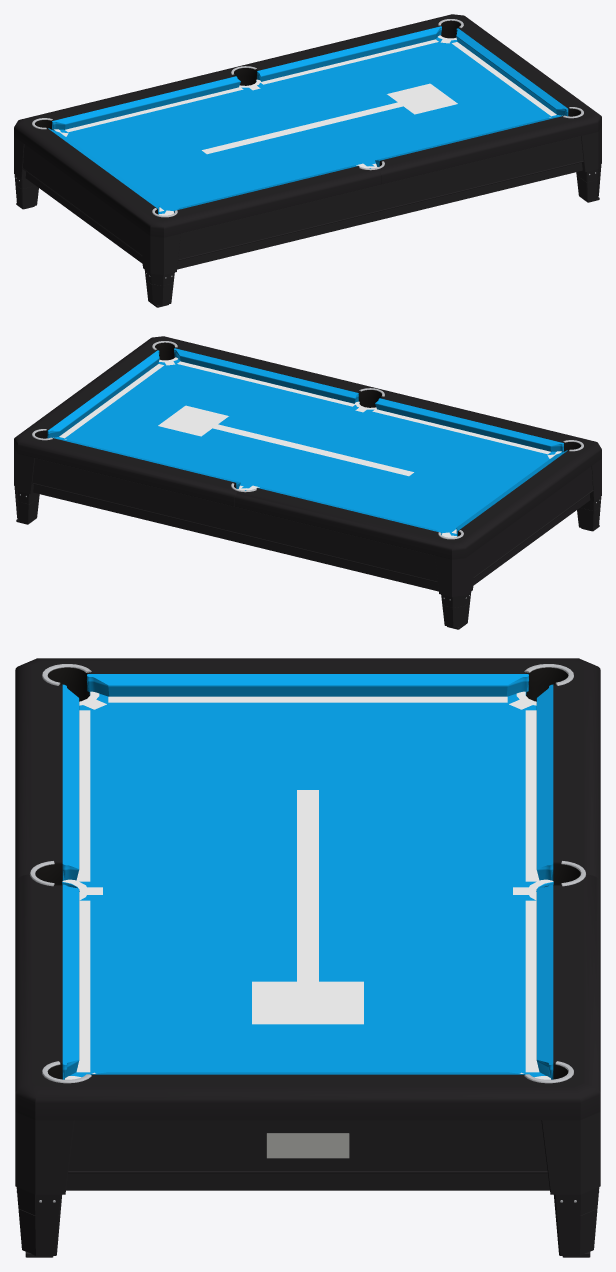
The model's file is PoolTable.fbx.
3 views of the same model, one above another, from view 1: azimuth 30°, elevation 25°; view 2: azimuth 150°, elevation 25°; view 3: azimuth 270°, elevation 25° (orthographic). The views are drawn at different scales.
Parts seen in each view (by area): view 1: Cloth, Body, Rails, Marks, Pockets, Caps; view 2: Cloth, Body, Rails, Marks, Pockets, Caps; view 3: Cloth, Rails, Body, Marks, Pockets, LogoPlate, Caps.
Boxes of the visible parts, x1,y1,x2,y2 form: Cloth: (48,26,568,214); Body: (14,126,601,307); Rails: (14,14,601,237); Marks: (54,35,562,215); Pockets: (35,20,580,214); Caps: (32,19,583,217); Cloth: (47,348,567,536); Body: (14,448,601,629); Rails: (14,336,601,559); Marks: (53,357,561,537); Pockets: (35,342,580,536); Caps: (32,341,583,539); Cloth: (62,674,553,1079); Rails: (15,658,600,1120); Body: (15,1112,600,1257); Marks: (62,691,553,1079); Pockets: (35,667,580,1079); LogoPlate: (266,1133,349,1158); Caps: (30,664,585,1083).
Bounding box in the file's own units: 18.24 × 3.26 × 10.24.
